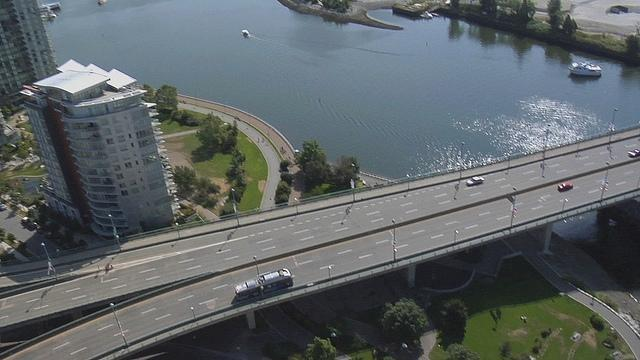bus: (232, 268, 294, 300)
car: (19, 215, 38, 231), (466, 176, 485, 185), (557, 181, 574, 191), (627, 149, 639, 158), (0, 203, 8, 211)
